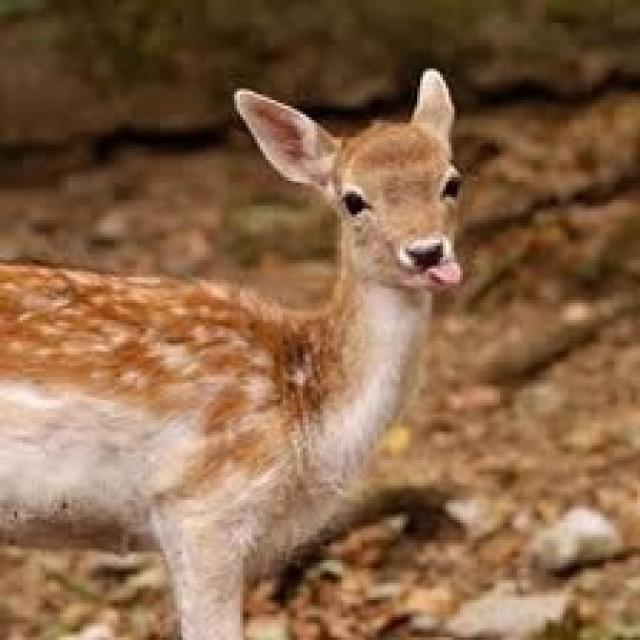elk: (9, 57, 480, 640)
